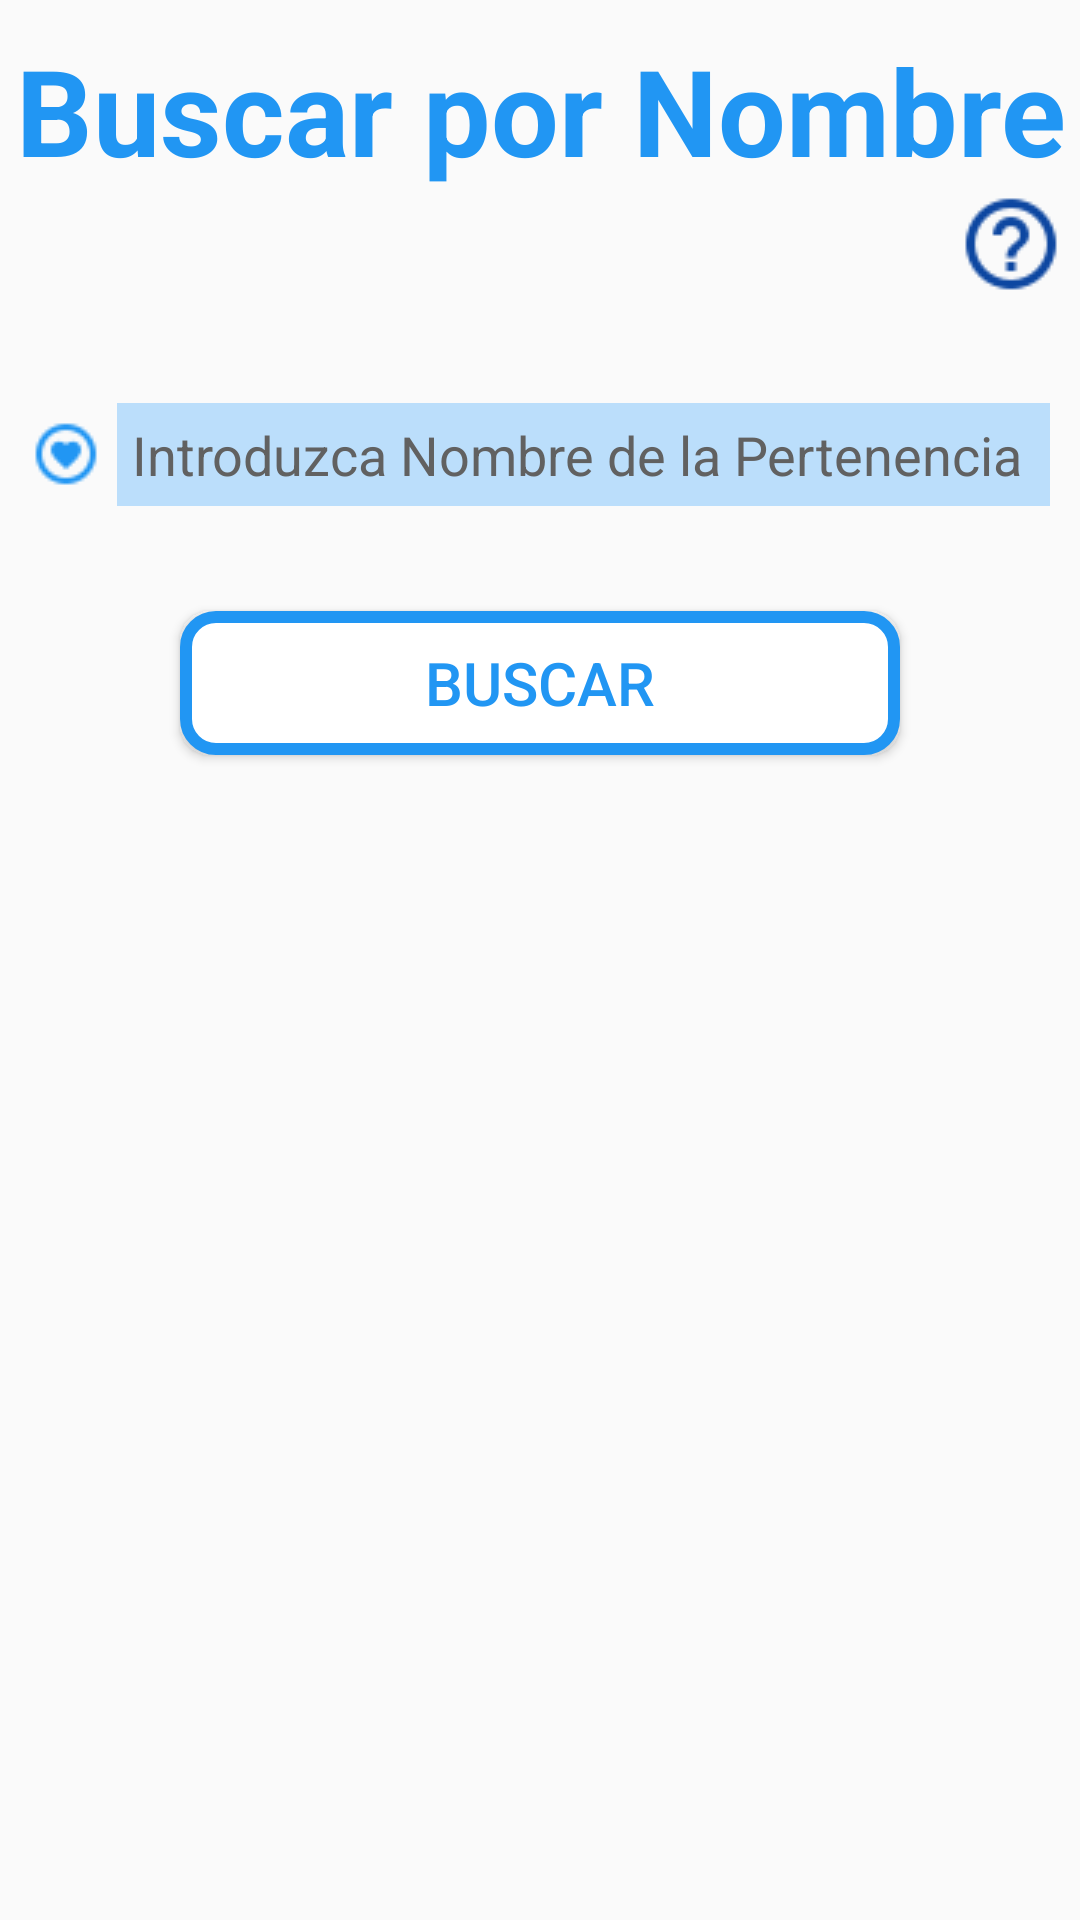

Where icons sit on this 1080x1920 app screen, as [left=x1, top=y1, right=x2, bottom=y2]:
iconopertenencia: [left=35, top=423, right=97, bottom=485]
